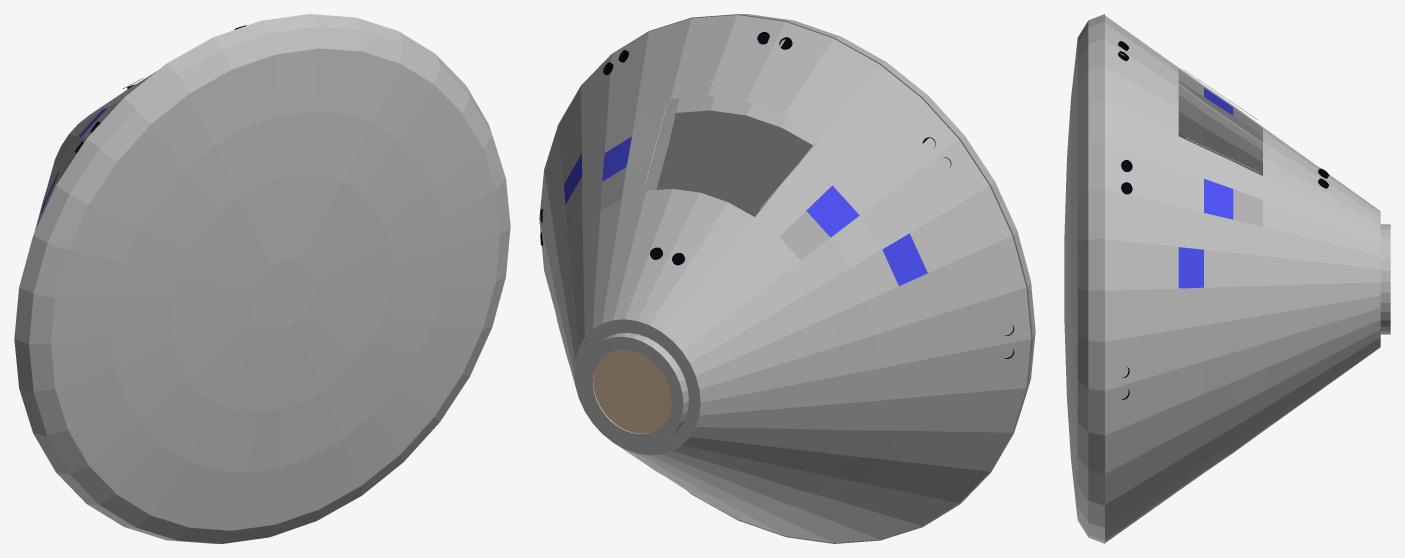
File: nsaturn1_cm.obj
3 renders of one model, left to right at view 1: azimuth 30°, elevation 25°; view 2: azimuth 150°, elevation 25°; view 3: azimuth 270°, elevation 25°, orthographic. The views are drawn at different scales.
Parts seen in each view (by area): view 1: group6, group18; view 2: group18, group6, group4, group5, group19, group17, group20; view 3: group18, group6, group19, group5, group20.
Boxes of the visible parts, x1,y1,x2,y2 form: group6: (14, 14, 510, 543); group18: (34, 71, 156, 231); group18: (539, 15, 1031, 542); group6: (539, 14, 1035, 543); group4: (593, 349, 671, 433); group5: (581, 332, 688, 446); group19: (564, 136, 927, 285); group17: (647, 465, 820, 519); group20: (600, 167, 830, 260); group18: (1105, 15, 1380, 542); group6: (1064, 14, 1104, 543); group19: (1178, 88, 1233, 288); group5: (1380, 224, 1390, 334); group20: (1233, 107, 1262, 226).
Size of the model in its own units: 3.92 by 3.92 by 2.41.
